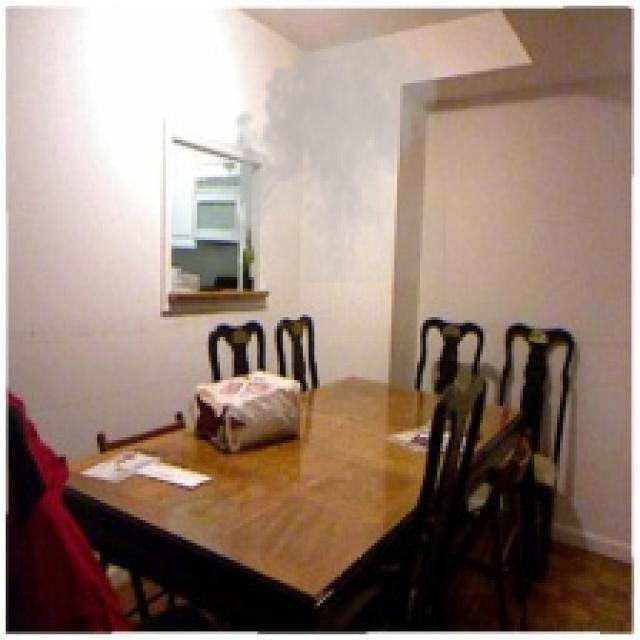smoke: (220, 6, 446, 283)
